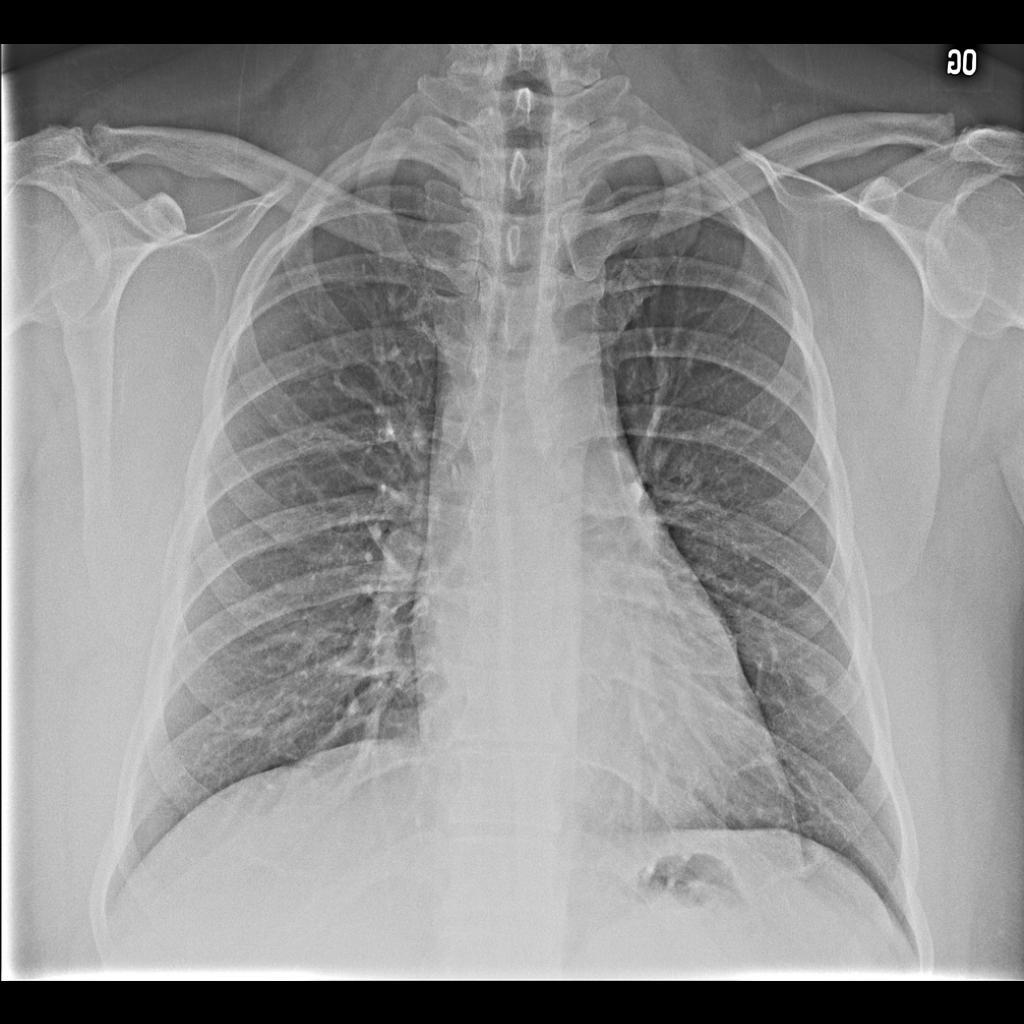Nodule: (800, 671, 838, 712)
